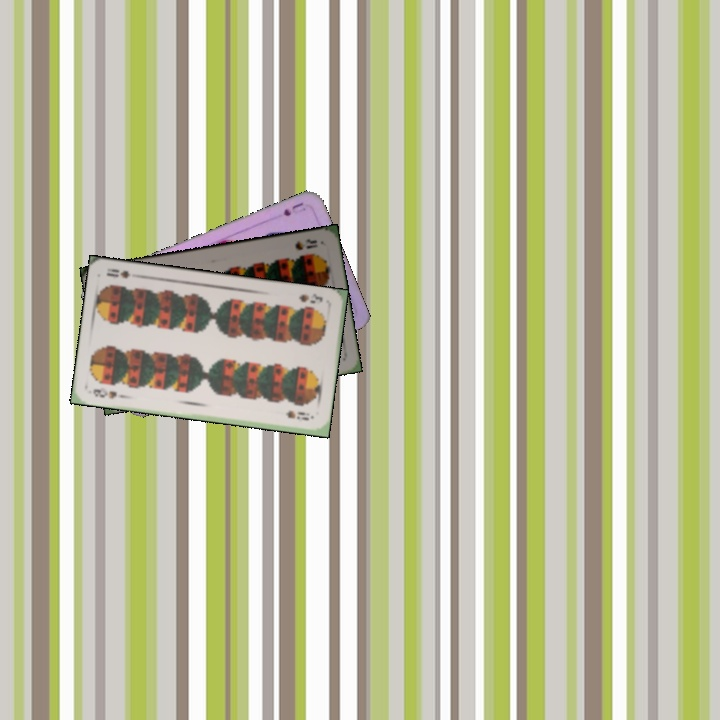S8: (89, 384, 127, 401), (291, 234, 320, 253), (295, 289, 325, 306)
SU: (279, 198, 306, 219)
